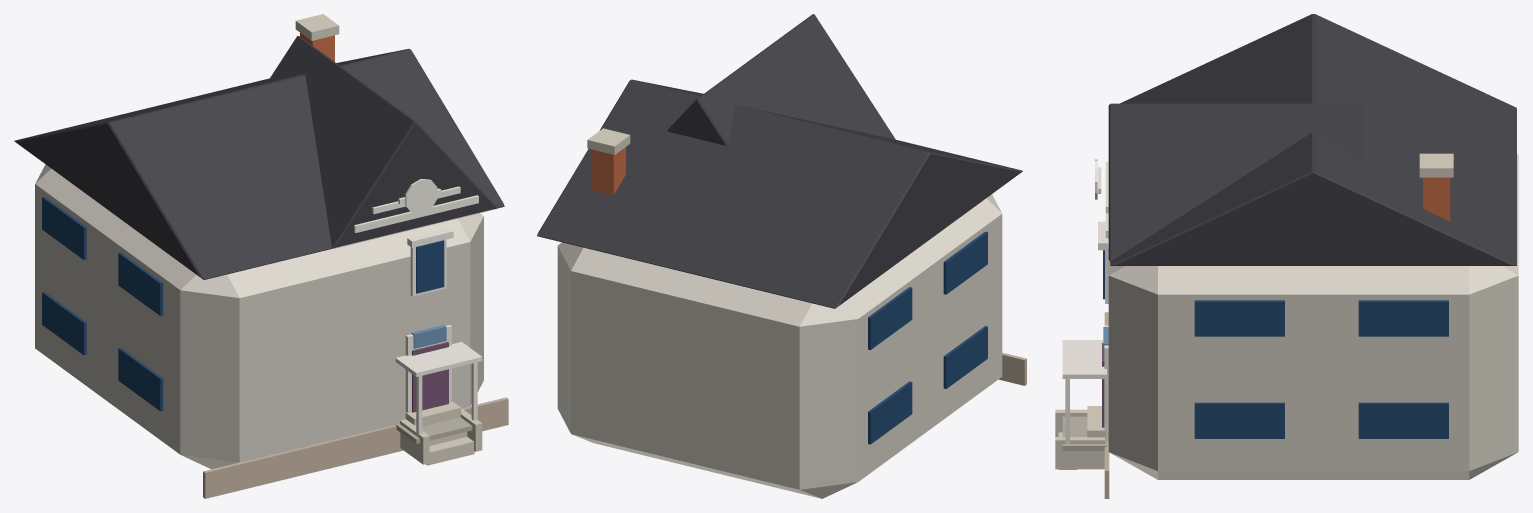
The model's file is qa_w11_gable.glb.
3 views of the same model, side by side, from view 1: azimuth 30°, elevation 25°; view 2: azimuth 150°, elevation 25°; view 3: azimuth 270°, elevation 25° (orthographic). The views are drawn at different scales.
Parts seen in each view (by area): view 1: walls, roof, roof.001, bsmt, proof, sb.004, sb, sb.002, sb.006, wgl, door, fsc1 (+8 smaller); view 2: walls, roof, roof.001, sb.004, sb, sb.002, sb.006, chimney, chimcap, bsmt; view 3: walls, roof, roof.001, sb.005, sb.007, sb.001, sb.003, proof, cheek.001, chimney, chimcap, porch (+1 smaller).
Boxes of the visible parts, x1,y1,x2,y2 form: walls: [35, 164, 483, 469]; roof: [14, 48, 504, 279]; roof.001: [267, 36, 497, 248]; bsmt: [203, 397, 508, 498]; proof: [395, 342, 482, 376]; sb.004: [118, 252, 163, 315]; sb: [118, 347, 163, 411]; sb.002: [42, 291, 86, 355]; sb.006: [42, 196, 86, 259]; wgl: [416, 240, 444, 293]; door: [412, 342, 448, 412]; fsc1: [354, 195, 478, 232]; walls: [557, 194, 1002, 498]; roof: [537, 79, 1022, 308]; roof.001: [667, 14, 895, 145]; sb.004: [943, 231, 987, 294]; sb: [943, 326, 987, 388]; sb.002: [868, 381, 912, 444]; sb.006: [868, 287, 912, 349]; chimney: [591, 147, 625, 195]; chimcap: [587, 128, 630, 154]; bsmt: [999, 352, 1026, 385]; walls: [1108, 154, 1518, 479]; roof: [1110, 14, 1516, 265]; roof.001: [1108, 103, 1362, 261]; sb.005: [1194, 300, 1284, 336]; sb.007: [1358, 300, 1448, 336]; sb.001: [1194, 402, 1284, 438]; sb.003: [1358, 402, 1448, 438]; proof: [1062, 340, 1106, 378]; cheek.001: [1055, 437, 1105, 469]; chimney: [1423, 177, 1450, 221]; chimcap: [1419, 153, 1453, 177]; porch: [1062, 416, 1106, 450].
Size of the model in its own units: 11.2 by 11.21 by 13.56.
